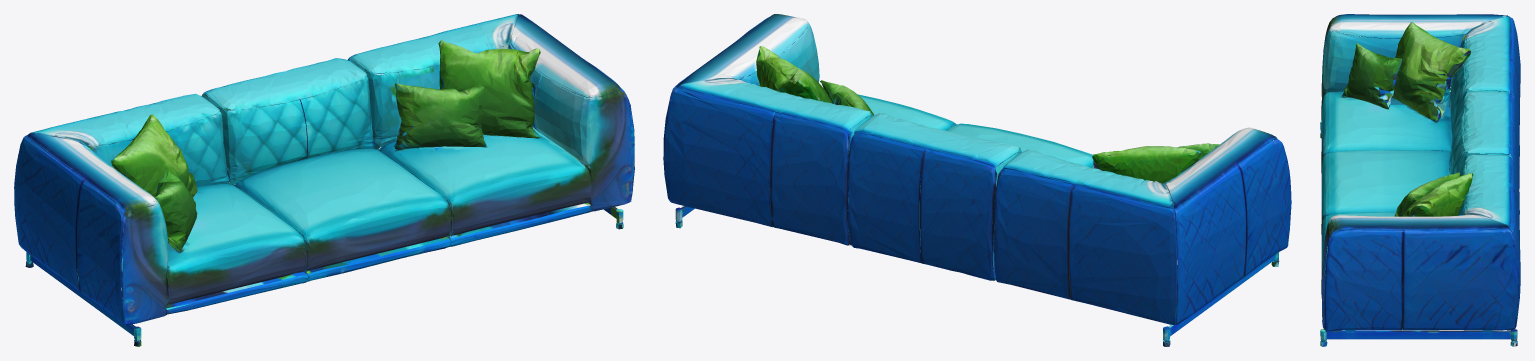
The model's file is edited_mesh.glb.
3 views of the same model, side by side, from view 1: azimuth 30°, elevation 25°; view 2: azimuth 150°, elevation 25°; view 3: azimuth 270°, elevation 25° (orthographic). The views are drawn at different scales.
Visible parts, largest first — view 1: solid_001_wire; view 2: solid_001_wire; view 3: solid_001_wire.
Boxes of the visible parts, x1,y1,x2,y2 form: solid_001_wire: [14, 14, 634, 346]; solid_001_wire: [663, 14, 1291, 346]; solid_001_wire: [1320, 14, 1520, 346].
Size of the model in its own units: 2 by 0.5532 by 0.7635.
Materials: 1 (1 with a texture image).
